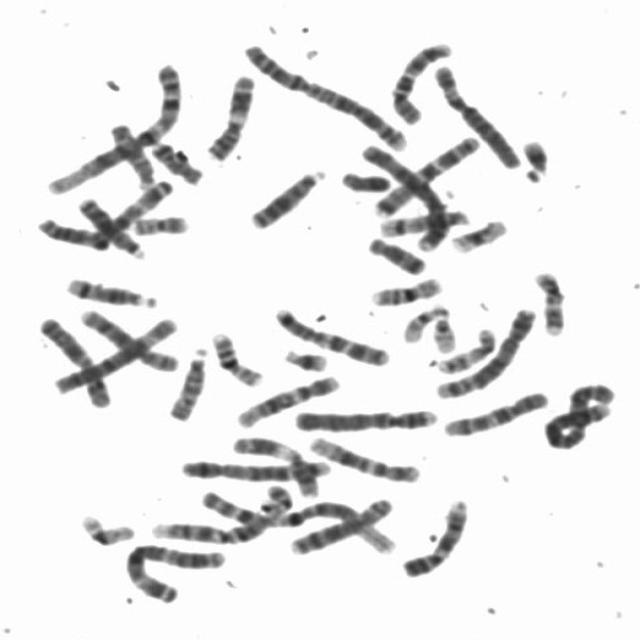A1: (39, 56, 188, 196), (194, 484, 403, 556)
A2: (234, 36, 412, 152), (537, 375, 620, 452)
A3: (31, 171, 178, 250), (117, 535, 230, 605)
B4: (353, 135, 451, 253), (287, 400, 443, 433)
B5: (429, 300, 541, 400), (173, 451, 333, 484)
C10: (384, 34, 457, 126), (435, 382, 553, 438)
C11: (225, 427, 322, 498), (198, 66, 258, 162)
C12: (230, 367, 344, 429), (302, 428, 424, 484)
C6: (45, 310, 183, 396), (426, 57, 524, 170)
C7: (367, 129, 484, 219), (267, 300, 394, 368)
C8: (74, 301, 182, 373), (284, 492, 398, 557)
C9: (395, 492, 473, 580), (148, 514, 271, 546)
D13: (243, 161, 330, 231), (71, 190, 148, 260)
D14: (58, 269, 160, 310), (374, 202, 473, 238)
D15: (102, 115, 158, 189), (162, 342, 211, 422)
E16: (204, 324, 268, 389), (363, 269, 446, 307)
E17: (429, 321, 499, 375), (526, 263, 570, 337)
E18: (142, 134, 207, 186), (361, 229, 432, 276)
F19: (444, 212, 511, 254), (73, 506, 138, 547)
F20: (125, 207, 193, 237), (254, 478, 298, 520)
G21: (515, 131, 554, 184), (276, 341, 332, 373)
G22: (396, 298, 450, 344), (425, 302, 460, 353)
X: (32, 309, 116, 410)
Y: (334, 164, 396, 194)
